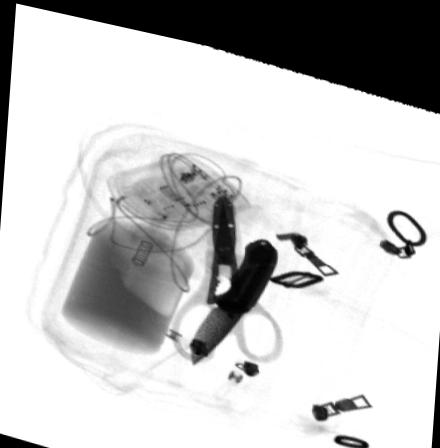Knife: (192, 224, 278, 355)
Scissors: (168, 183, 283, 353)
